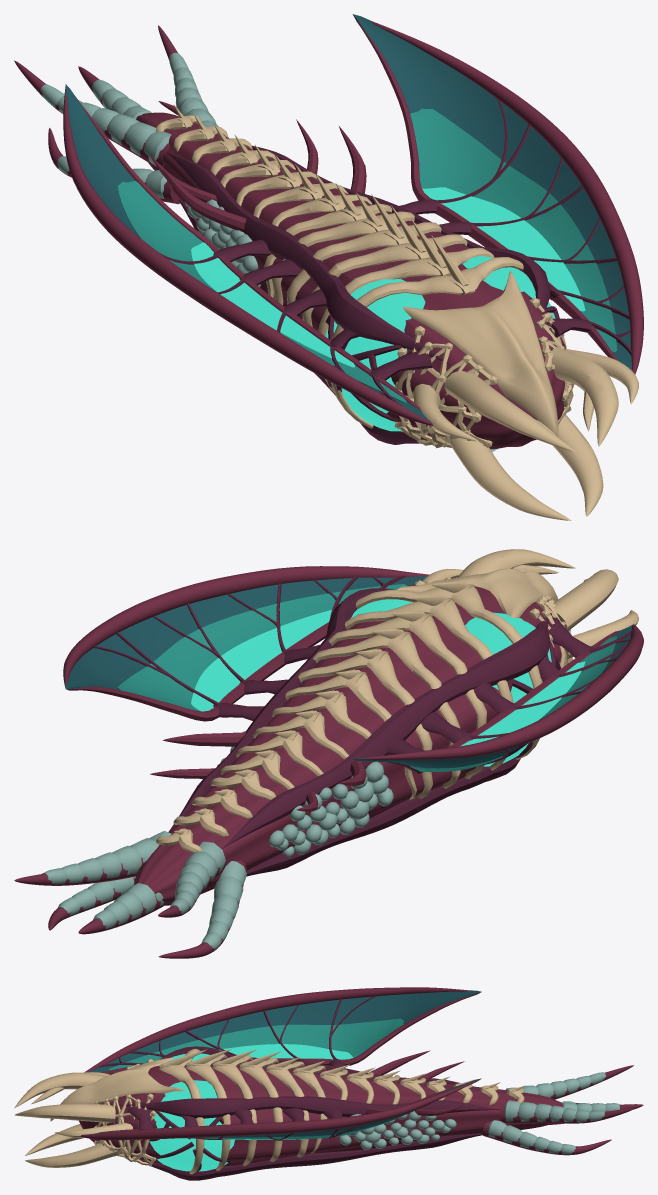
Rendered from unknown_contact_wreck.glb.
3 renders of one model, top to bottom at view 1: azimuth 30°, elevation 25°; view 2: azimuth 150°, elevation 25°; view 3: azimuth 270°, elevation 25°, orthographic. The views are drawn at different scales.
Parts seen in each view (by area): view 1: unknown_contact_wreck_02, unknown_contact_wreck_12, unknown_contact_wreck_01, unknown_contact_wreck_19, unknown_contact_wreck_05, unknown_contact_wreck_21, unknown_contact_wreck_00, unknown_contact_wreck_15, unknown_contact_wreck_07, unknown_contact_wreck_10, unknown_contact_wreck_08, unknown_contact_wreck_17 (+10 smaller); view 2: unknown_contact_wreck_05, unknown_contact_wreck_08, unknown_contact_wreck_15, unknown_contact_wreck_10, unknown_contact_wreck_21, unknown_contact_wreck_20, unknown_contact_wreck_03, unknown_contact_wreck_00, unknown_contact_wreck_12, unknown_contact_wreck_04, unknown_contact_wreck_25, unknown_contact_wreck_01 (+11 smaller); view 3: unknown_contact_wreck_07, unknown_contact_wreck_11, unknown_contact_wreck_17, unknown_contact_wreck_04, unknown_contact_wreck_02, unknown_contact_wreck_10, unknown_contact_wreck_25, unknown_contact_wreck_24, unknown_contact_wreck_15, unknown_contact_wreck_23, unknown_contact_wreck_18, unknown_contact_wreck_16 (+13 smaller).
Part boxes in pixels (x1,y1,x2,y2): unknown_contact_wreck_02: [432, 327, 618, 520]; unknown_contact_wreck_12: [398, 51, 571, 187]; unknown_contact_wreck_01: [268, 293, 453, 438]; unknown_contact_wreck_19: [366, 244, 541, 352]; unknown_contact_wreck_05: [187, 205, 359, 318]; unknown_contact_wreck_21: [521, 141, 633, 269]; unknown_contact_wreck_00: [424, 155, 559, 252]; unknown_contact_wreck_15: [201, 266, 370, 409]; unknown_contact_wreck_07: [494, 248, 642, 332]; unknown_contact_wreck_10: [332, 194, 497, 287]; unknown_contact_wreck_08: [106, 105, 230, 220]; unknown_contact_wreck_17: [533, 302, 643, 451]; unknown_contact_wreck_05: [334, 664, 493, 824]; unknown_contact_wreck_08: [154, 790, 311, 935]; unknown_contact_wreck_15: [452, 632, 632, 750]; unknown_contact_wreck_10: [315, 583, 491, 676]; unknown_contact_wreck_21: [141, 569, 303, 652]; unknown_contact_wreck_20: [275, 746, 388, 870]; unknown_contact_wreck_03: [14, 852, 227, 958]; unknown_contact_wreck_00: [149, 616, 317, 718]; unknown_contact_wreck_12: [65, 602, 199, 719]; unknown_contact_wreck_04: [162, 711, 343, 792]; unknown_contact_wreck_25: [199, 650, 372, 732]; unknown_contact_wreck_01: [511, 601, 643, 679]; unknown_contact_wreck_07: [135, 1083, 233, 1174]; unknown_contact_wreck_11: [238, 990, 343, 1054]; unknown_contact_wreck_17: [36, 1092, 148, 1165]; unknown_contact_wreck_04: [357, 1067, 446, 1152]; unknown_contact_wreck_02: [14, 1072, 122, 1167]; unknown_contact_wreck_10: [197, 1049, 287, 1116]; unknown_contact_wreck_25: [273, 1057, 359, 1120]; unknown_contact_wreck_24: [335, 987, 412, 1055]; unknown_contact_wreck_15: [184, 1005, 288, 1059]; unknown_contact_wreck_23: [394, 1076, 487, 1151]; unknown_contact_wreck_18: [485, 1100, 577, 1155]; unknown_contact_wreck_16: [197, 1115, 303, 1179].
Bounding box in the file's own units: 5.99 × 2.68 × 12.
